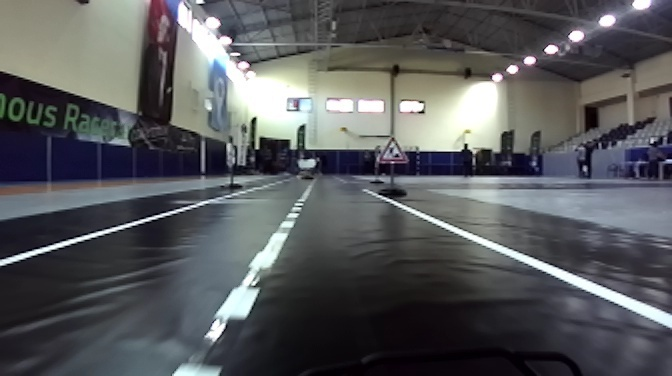yol_yapimi: (373, 133, 407, 165)
